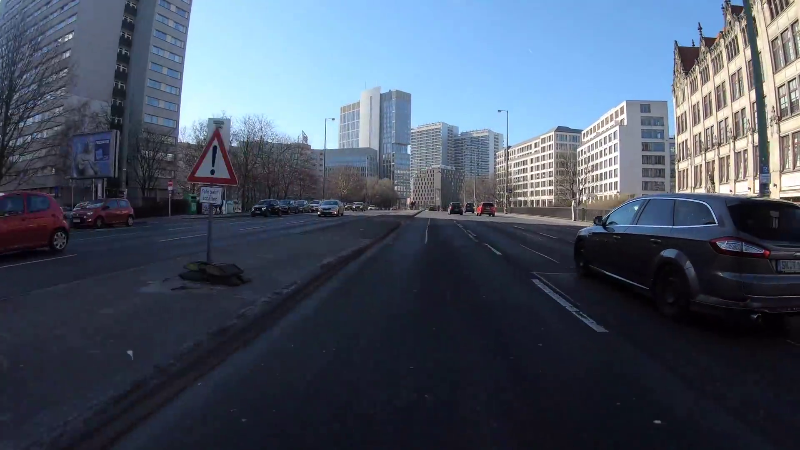Plate: (775, 258, 798, 274)
